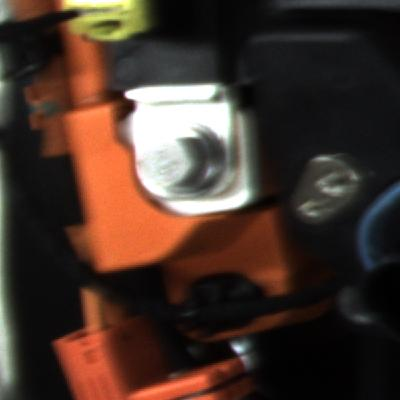nut_b: (132, 127, 230, 201)
